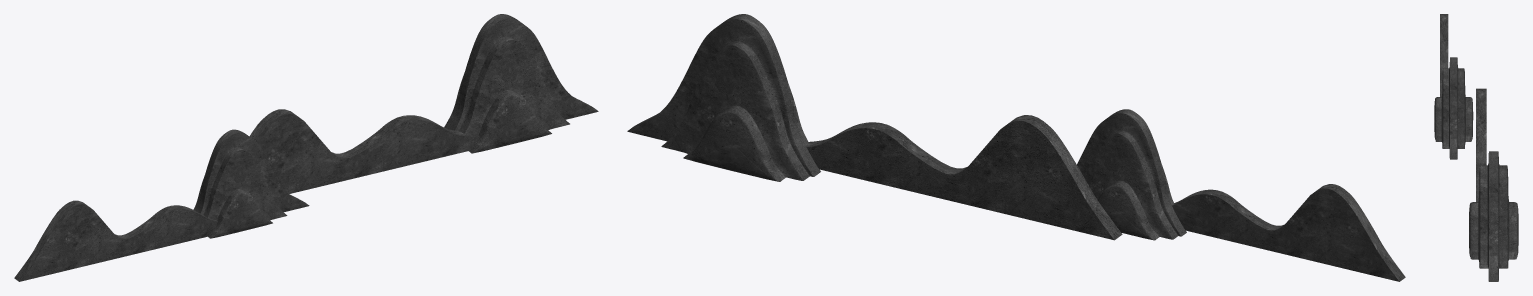
Rendered from 侠客猫旗舰店 (5).fbx.
3 views of the same model, side by side, from view 1: azimuth 30°, elevation 25°; view 2: azimuth 150°, elevation 25°; view 3: azimuth 270°, elevation 25° (orthographic). The views are drawn at different scales.
Visible parts, largest first — view 1: Component8_1_2, Line015, Line015_1, Component8_1_1; view 2: Line015, Component8_1_2, Line015_1, Component8_1_1; view 3: Component8_1_2, Component8_1_1, Line015, Line015_1.
Boxes of the visible parts, x1=… form: Component8_1_2: x1=444, y1=14, x2=598, y2=153; Line015: x1=249, y1=109, x2=478, y2=193; Line015_1: x1=14, y1=200, x2=217, y2=281; Component8_1_1: x1=193, y1=129, x2=309, y2=238; Line015: x1=806, y1=115, x2=1122, y2=240; Component8_1_2: x1=627, y1=14, x2=820, y2=181; Line015_1: x1=1172, y1=184, x2=1405, y2=281; Component8_1_1: x1=1077, y1=109, x2=1186, y2=240; Component8_1_2: x1=1469, y1=151, x2=1518, y2=281; Component8_1_1: x1=1434, y1=57, x2=1473, y2=159; Line015: x1=1476, y1=88, x2=1486, y2=201; Line015_1: x1=1440, y1=14, x2=1448, y2=96.
Bounding box in the file's own units: 4352 × 790 × 650.
